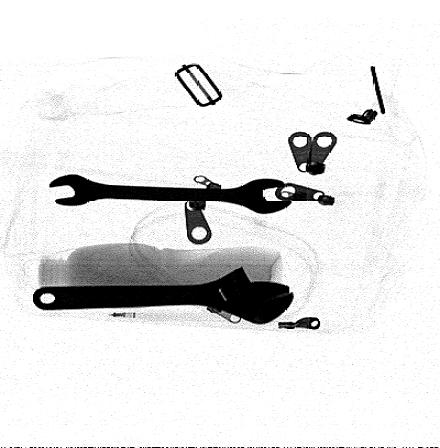Wrench: (32, 265, 296, 325), (47, 173, 294, 216)
